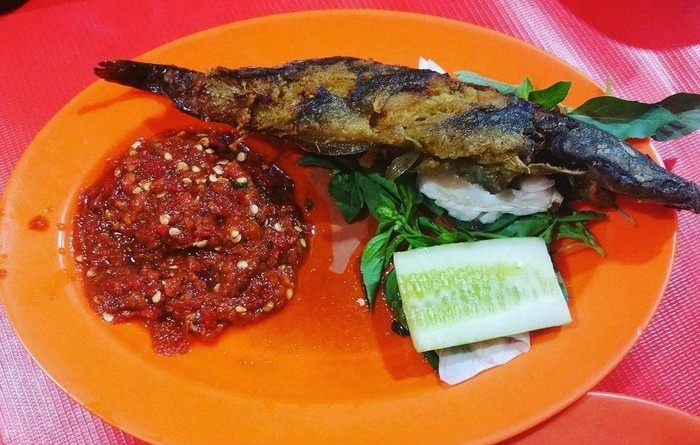pecel_lele: (104, 45, 547, 157)
